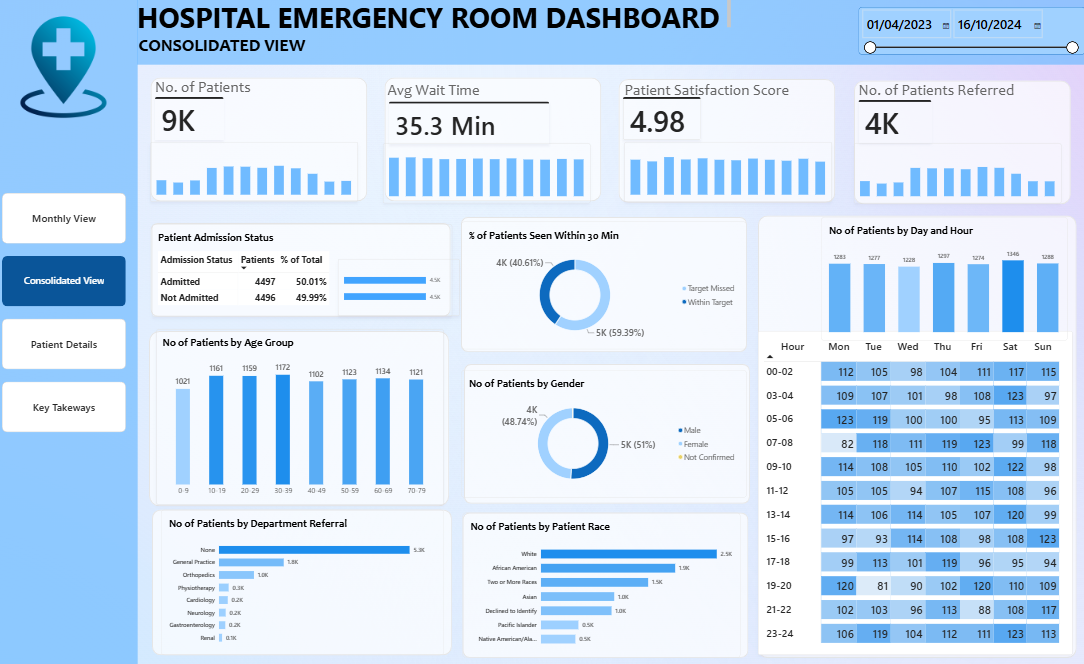

This screenshot's page, from the dashboard's own definition file:
{"tool":"powerbi","page":{"name":"Consolidated View","canvas":[2300,1400],"ordinal":1},"visuals":[{"type":"shape","box":[0,0,310,1401.1],"z":0},{"type":"shape","box":[1611.1,457.8,668.9,928.9],"z":1000},{"type":"shape","box":[336.7,473.3,630,196.7],"z":2000},{"type":"shape","box":[339.3,1074.7,629.4,305.9],"z":3000},{"type":"shape","box":[334.9,698,630,368],"z":4000},{"type":"pivotTable","title":"Patient Admission Status","fields":{"Rows":["Hospital ER_Data.Admission Status"],"Values":["Hospital ER_Data.No of Patients1","Hospital ER_Data.No of Patients"]},"box":[340.4,474.5,630,193.6],"z":5000},{"type":"shape","box":[336,168,455,260],"z":6000},{"type":"shape","box":[308.6,0,1993,140],"z":7000},{"type":"textbox","box":[308.6,0,1246.8,69.3],"z":8000},{"type":"textbox","box":[310.3,75.9,420.7,48.3],"z":9000},{"type":"slicer","fields":{"Values":["Date Table.Date"]},"box":[1824,20,476,100],"z":10000},{"type":"cardVisual","fields":{"Data":["Hospital ER_Data.No of Patients"]},"box":[346,208,144,90],"z":11000},{"type":"textbox","box":[346,168,220,48],"z":12000},{"type":"columnChart","fields":{"Category":["Date Table.Month Name"],"Y":["Hospital ER_Data.No of Patients"]},"box":[336.7,300.8,435,125],"z":13000},{"type":"shape","box":[828.1,166.7,455,260],"z":14000},{"type":"textbox","box":[835.7,171.9,220,48],"z":15000},{"type":"columnChart","fields":{"Category":["Date Table.Month Name"],"Y":["Avg(Hospital ER_Data.Patient Waittime)"]},"box":[826.4,304.7,435,125],"z":16000},{"type":"shape","box":[1320.2,170.8,455,260],"z":17000},{"type":"cardVisual","fields":{"Data":["Hospital ER_Data.Satisfaction Score"]},"box":[1330,206.7,163.3,90],"z":18000},{"type":"textbox","box":[1333.3,173.3,426.7,50],"z":19000},{"type":"columnChart","fields":{"Category":["Date Table.Month Name"],"Y":["Hospital ER_Data.Satisfaction Score"]},"box":[1332,303.6,435,125],"z":20000},{"type":"shape","box":[1812.3,174.1,455,260],"z":21000},{"type":"cardVisual","fields":{"Data":["Hospital ER_Data.No of Patients Referred"]},"box":[1823.3,213.3,153.3,90],"z":22000},{"type":"textbox","box":[1823.3,173.3,390,50],"z":23000},{"type":"columnChart","fields":{"Category":["Date Table.Month Name"],"Y":["Hospital ER_Data.No of Patients Referred"]},"box":[1813.1,306.9,435,125],"z":24000},{"type":"cardVisual","fields":{"Data":["Hospital ER_Data.Avg Wait Time"]},"box":[836.7,216.7,336.7,90],"z":25000},{"type":"barChart","fields":{"Category":["Hospital ER_Data.Admission Status"],"Y":["Hospital ER_Data.No of Patients"]},"box":[729.8,548.9,255.3,119.1],"z":26000},{"type":"clusteredColumnChart","fields":{"Category":["Hospital ER_Data.Age Group"],"Y":["Hospital ER_Data.No of Patients"]},"box":[350,697.1,602.9,367.6],"z":27000},{"type":"clusteredBarChart","fields":{"Category":["Hospital ER_Data.Department Referral"],"Y":["Hospital ER_Data.No of Patients"]},"box":[359.9,1074.7,594.1,305.9],"z":28000},{"type":"shape","box":[990.1,460.4,600,283.1],"z":29000},{"type":"donutChart","title":"% of Patients Seen Within 30 Min","fields":{"Category":["Hospital ER_Data.Waittime Status"],"Y":["Hospital ER_Data.No of Patients"]},"box":[990.1,468.9,600,267.8],"z":30000},{"type":"shape","box":[993.5,767,600,293.2],"z":31000},{"type":"donutChart","title":"No of Patients by Gender","fields":{"Category":["Hospital ER_Data.Patient Gender"],"Y":["Hospital ER_Data.No of Patients"]},"box":[988.3,780.1,600,267.8],"z":32000},{"type":"shape","box":[990.5,1079.6,600,305.1],"z":33000},{"type":"clusteredBarChart","fields":{"Category":["Hospital ER_Data.Patient Race"],"Y":["Hospital ER_Data.No of Patients"]},"box":[990.5,1079.6,583.1,305.1],"z":34000},{"type":"pivotTable","fields":{"Columns":["Date Table.Day Name"],"Rows":["Hospital ER_Data.Waittime Interval"],"Values":["Hospital ER_Data.No of Patients"]},"box":[1612,700,660,680],"z":35000},{"type":"columnChart","title":"No of Patients by Day and Hour","fields":{"Category":["Date Table.Day Name"],"Y":["Hospital ER_Data.No of Patients"]},"box":[1744,460,518,260],"z":36000},{"type":"image","box":[48.3,0,213.8,289.7],"z":37000},{"type":"pageNavigator","box":[26.7,410,260,503.3],"z":38000}]}

Visuals, with their boxes on the page's 2300x1400 design canvas (x1, y1, x2, y2). These are canvas units, not pixel positions in the 1084x664 screenshot, which may show the page scaled, cropped or inside an application window:
shape: select_region(0, 0, 310, 1401)
shape: select_region(1611, 458, 2280, 1387)
shape: select_region(337, 473, 967, 670)
shape: select_region(339, 1075, 969, 1381)
shape: select_region(335, 698, 965, 1066)
"Patient Admission Status" pivotTable: select_region(340, 474, 970, 668)
shape: select_region(336, 168, 791, 428)
shape: select_region(309, 0, 2302, 140)
textbox: select_region(309, 0, 1555, 69)
textbox: select_region(310, 76, 731, 124)
slicer - Date Table.Date: select_region(1824, 20, 2300, 120)
cardVisual - Hospital ER_Data.No of Patients: select_region(346, 208, 490, 298)
textbox: select_region(346, 168, 566, 216)
columnChart - Date Table.Month Name x Hospital ER_Data.No of Patients: select_region(337, 301, 772, 426)
shape: select_region(828, 167, 1283, 427)
textbox: select_region(836, 172, 1056, 220)
columnChart - Date Table.Month Name x Avg(Hospital ER_Data.Patient Waittime): select_region(826, 305, 1261, 430)
shape: select_region(1320, 171, 1775, 431)
cardVisual - Hospital ER_Data.Satisfaction Score: select_region(1330, 207, 1493, 297)
textbox: select_region(1333, 173, 1760, 223)
columnChart - Date Table.Month Name x Hospital ER_Data.Satisfaction Score: select_region(1332, 304, 1767, 429)
shape: select_region(1812, 174, 2267, 434)
cardVisual - Hospital ER_Data.No of Patients Referred: select_region(1823, 213, 1977, 303)
textbox: select_region(1823, 173, 2213, 223)
columnChart - Date Table.Month Name x Hospital ER_Data.No of Patients Referred: select_region(1813, 307, 2248, 432)
cardVisual - Hospital ER_Data.Avg Wait Time: select_region(837, 217, 1173, 307)
barChart - Hospital ER_Data.Admission Status x Hospital ER_Data.No of Patients: select_region(730, 549, 985, 668)
clusteredColumnChart - Hospital ER_Data.Age Group x Hospital ER_Data.No of Patients: select_region(350, 697, 953, 1065)
clusteredBarChart - Hospital ER_Data.Department Referral x Hospital ER_Data.No of Patients: select_region(360, 1075, 954, 1381)
shape: select_region(990, 460, 1590, 744)
"% of Patients Seen Within 30 Min" donutChart: select_region(990, 469, 1590, 737)
shape: select_region(994, 767, 1594, 1060)
"No of Patients by Gender" donutChart: select_region(988, 780, 1588, 1048)
shape: select_region(990, 1080, 1590, 1385)
clusteredBarChart - Hospital ER_Data.Patient Race x Hospital ER_Data.No of Patients: select_region(990, 1080, 1574, 1385)
pivotTable - Date Table.Day Name x Hospital ER_Data.Waittime Interval: select_region(1612, 700, 2272, 1380)
"No of Patients by Day and Hour" columnChart: select_region(1744, 460, 2262, 720)
image: select_region(48, 0, 262, 290)
pageNavigator: select_region(27, 410, 287, 913)
